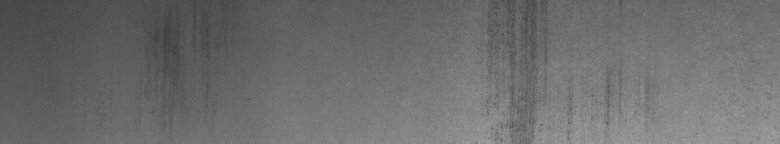ka: (486, 4, 620, 136)
